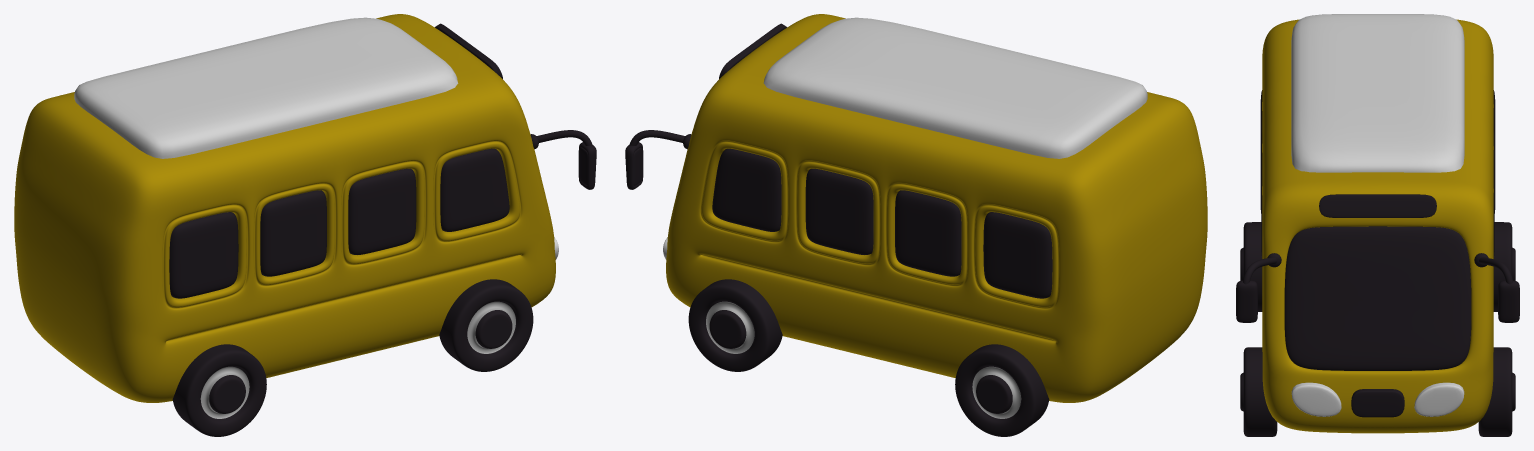
The model's file is bus-3d-icon-900005731446.glb.
3 renders of one model, left to right at view 1: azimuth 30°, elevation 25°; view 2: azimuth 150°, elevation 25°; view 3: azimuth 270°, elevation 25°, orthographic. The views are drawn at different scales.
Parts seen in each view (by area): view 1: Body, Body Top, Windows, Tires, Rims, Mirrors, Label; view 2: Body, Body Top, Windows, Tires, Rims, Mirrors, Label; view 3: Body, Body Top, Windows, Tires, Lamp, Label, Mirrors, Grill.
Part boxes in pixels (bbox=[...]): Body: bbox=[14, 14, 555, 402]; Body Top: bbox=[74, 17, 458, 158]; Windows: bbox=[169, 148, 509, 298]; Tires: bbox=[172, 279, 533, 436]; Rims: bbox=[200, 301, 515, 418]; Mirrors: bbox=[530, 130, 596, 189]; Label: bbox=[435, 23, 502, 78]; Body: bbox=[666, 14, 1207, 402]; Body Top: bbox=[763, 17, 1147, 158]; Windows: bbox=[712, 148, 1052, 298]; Tires: bbox=[688, 279, 1049, 436]; Rims: bbox=[706, 301, 1021, 418]; Mirrors: bbox=[625, 130, 691, 189]; Label: bbox=[719, 23, 786, 78]; Body: bbox=[1262, 19, 1493, 433]; Body Top: bbox=[1291, 14, 1464, 172]; Windows: bbox=[1260, 90, 1495, 370]; Tires: bbox=[1240, 222, 1515, 436]; Lamp: bbox=[1291, 382, 1464, 416]; Label: bbox=[1319, 194, 1436, 217]; Mirrors: bbox=[1236, 253, 1519, 322]; Grill: bbox=[1351, 389, 1404, 417].
Size of the model in its own units: 0.8421 by 0.496 by 0.462.
